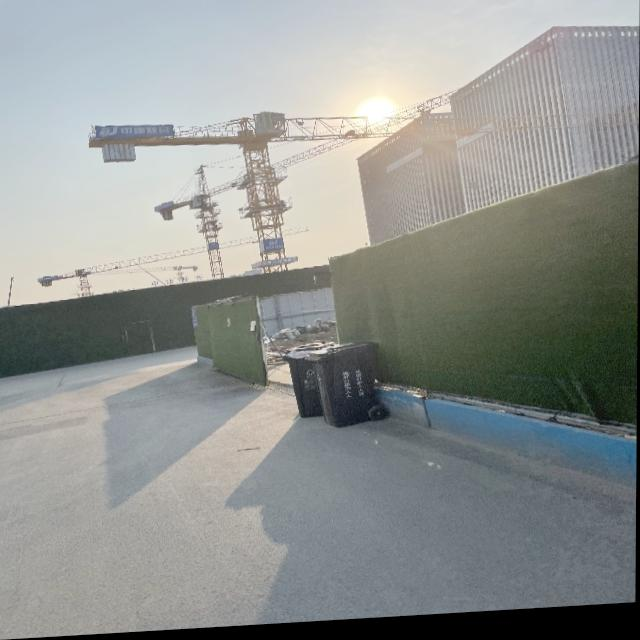garbage_bin: (304, 344, 382, 434)
overflow: (283, 345, 335, 423)
